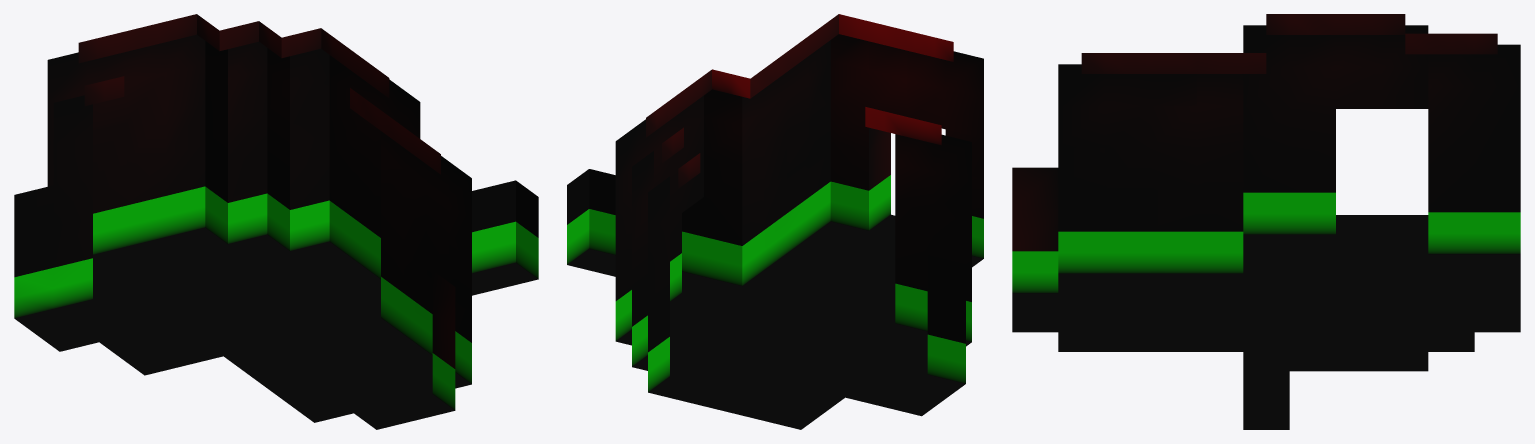
File: castle_backyard_1_no_specular.glb
3 views of the same model, side by side, from view 1: azimuth 30°, elevation 25°; view 2: azimuth 150°, elevation 25°; view 3: azimuth 270°, elevation 25° (orthographic). The views are drawn at different scales.
Parts seen in each view (by area): view 1: Wall, Floor, UpperEdge; view 2: Wall, Floor, UpperEdge; view 3: Floor, Wall, UpperEdge.
Part boxes in pixels (x1,y1,x2,y2): Wall: [14, 34, 538, 368]; Floor: [14, 186, 538, 429]; UpperEdge: [78, 14, 440, 174]; Wall: [567, 34, 983, 352]; Floor: [567, 175, 983, 429]; UpperEdge: [646, 14, 953, 188]; Floor: [1012, 192, 1520, 429]; Wall: [1012, 25, 1520, 251]; UpperEdge: [1081, 14, 1497, 73].
Size of the model in its own units: 11 by 5.5 by 11.
